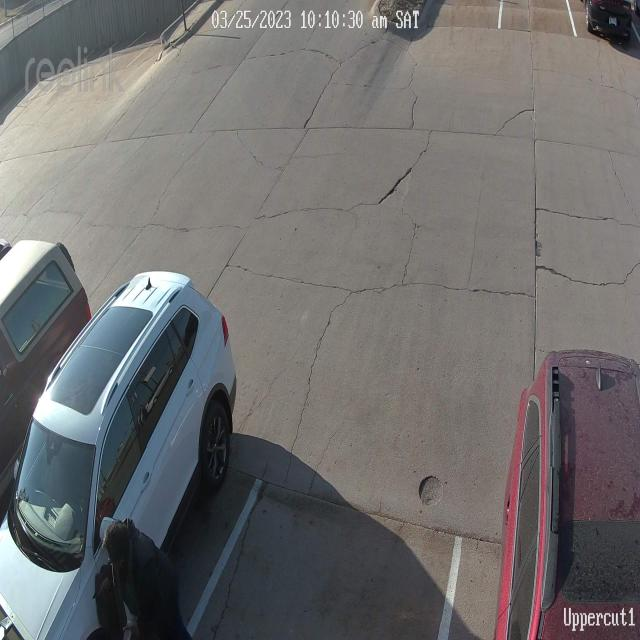Empty-slot: (182, 456, 476, 640), (494, 0, 585, 78), (409, 0, 502, 56)
Person: (95, 522, 192, 640)
Slot-Occupied: (0, 272, 236, 640), (496, 352, 640, 640), (0, 240, 94, 515), (584, 0, 638, 60)
